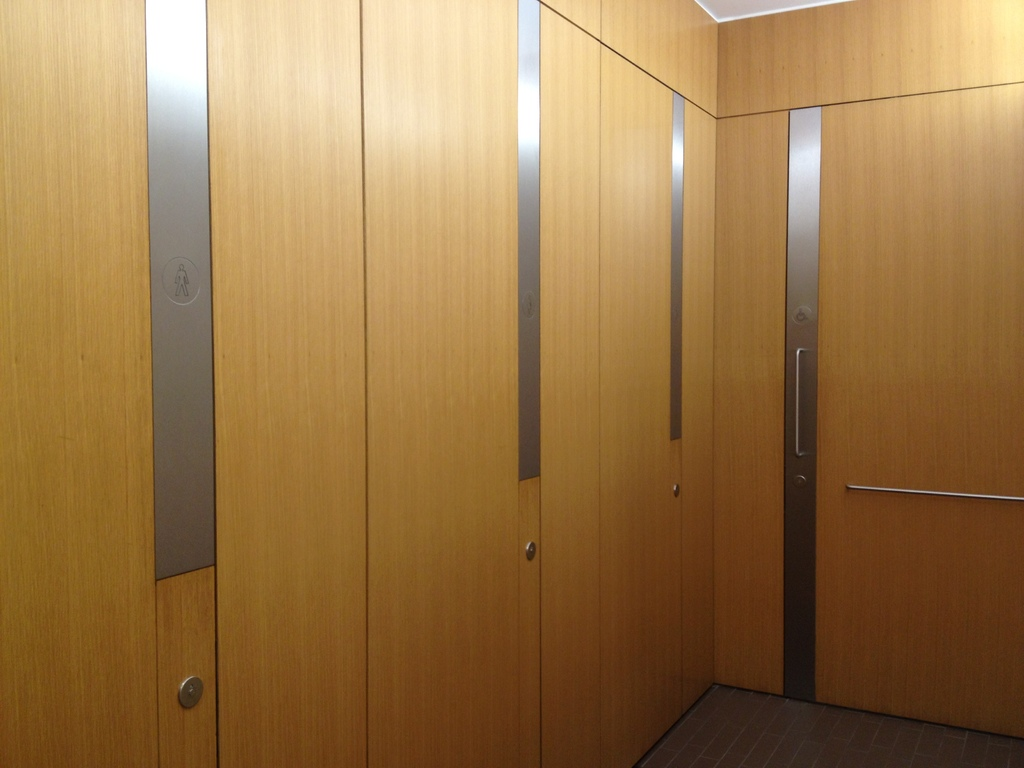door: (795, 109, 1024, 718)
handle: (834, 479, 1024, 514), (790, 340, 810, 458)
